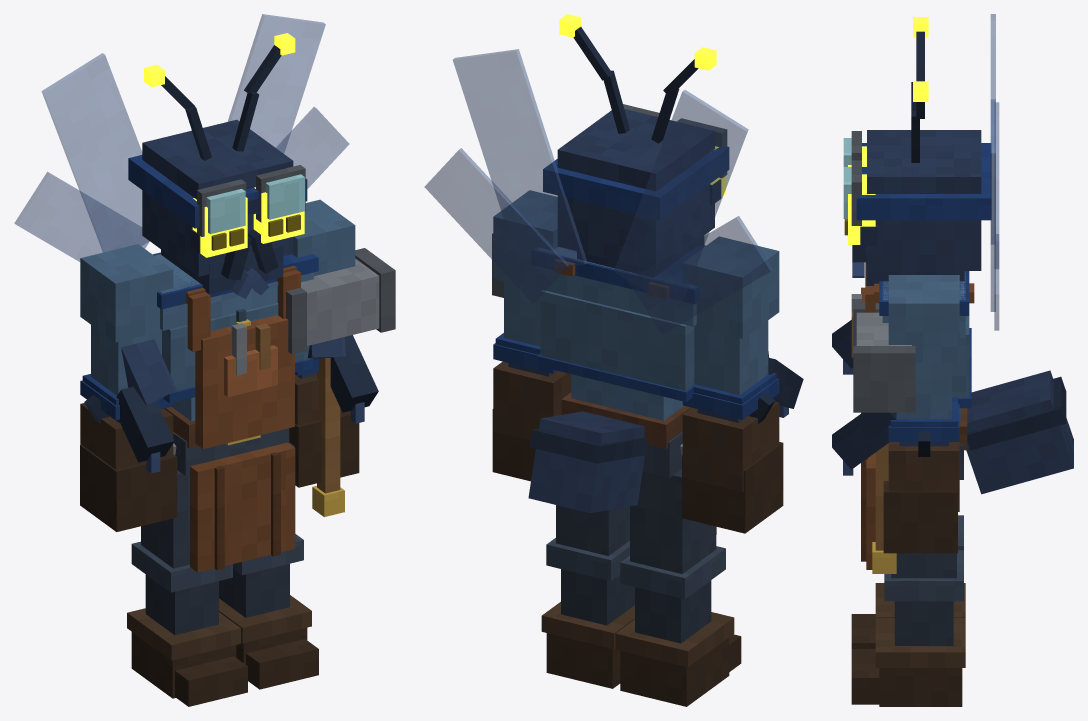
Rendered from insectoid_forgeron_v3.glb.
3 renders of one model, left to right at view 1: azimuth 30°, elevation 25°; view 2: azimuth 150°, elevation 25°; view 3: azimuth 270°, elevation 25°, orthographic. The views are drawn at different scales.
Parts seen in each view (by area): view 1: Torso, Head, ArmR, LegR, HandL, LegL, ArmL; view 2: Torso, Head, ArmR, LegR, ArmL, LegL; view 3: Head, Torso, ArmL, LegL, HandL, LegR.
Part boxes in pixels (x1,y1,x2,y2): Torso: [14, 14, 378, 572]; Head: [128, 33, 307, 298]; ArmR: [80, 244, 177, 531]; LegR: [127, 470, 247, 706]; HandL: [277, 248, 395, 516]; LegL: [219, 442, 318, 689]; ArmL: [289, 199, 359, 487]; Torso: [424, 49, 803, 534]; Head: [543, 14, 729, 277]; ArmR: [682, 236, 783, 533]; LegR: [615, 469, 741, 706]; ArmL: [492, 190, 571, 481]; LegL: [541, 505, 634, 688]; Head: [843, 17, 991, 285]; Torso: [832, 14, 1073, 569]; ArmL: [883, 275, 959, 553]; LegL: [851, 550, 965, 706]; HandL: [853, 302, 915, 573]; LegR: [851, 515, 965, 648].
Size of the model in its own units: 1.12 by 1.98 by 0.699.
Materials: 37 (37 with a texture image).
